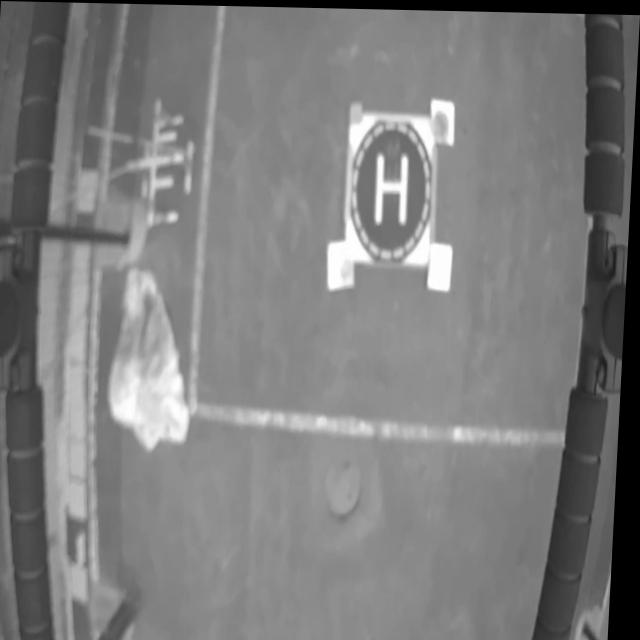Helipad: (375, 151, 410, 223)
